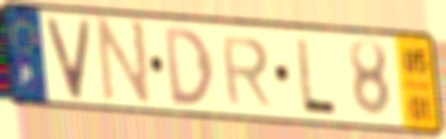8: (347, 38, 391, 123)
D: (161, 24, 217, 109)
L: (293, 34, 340, 119)
N: (95, 16, 153, 110)
R: (218, 34, 275, 110)
V: (42, 15, 94, 103)
